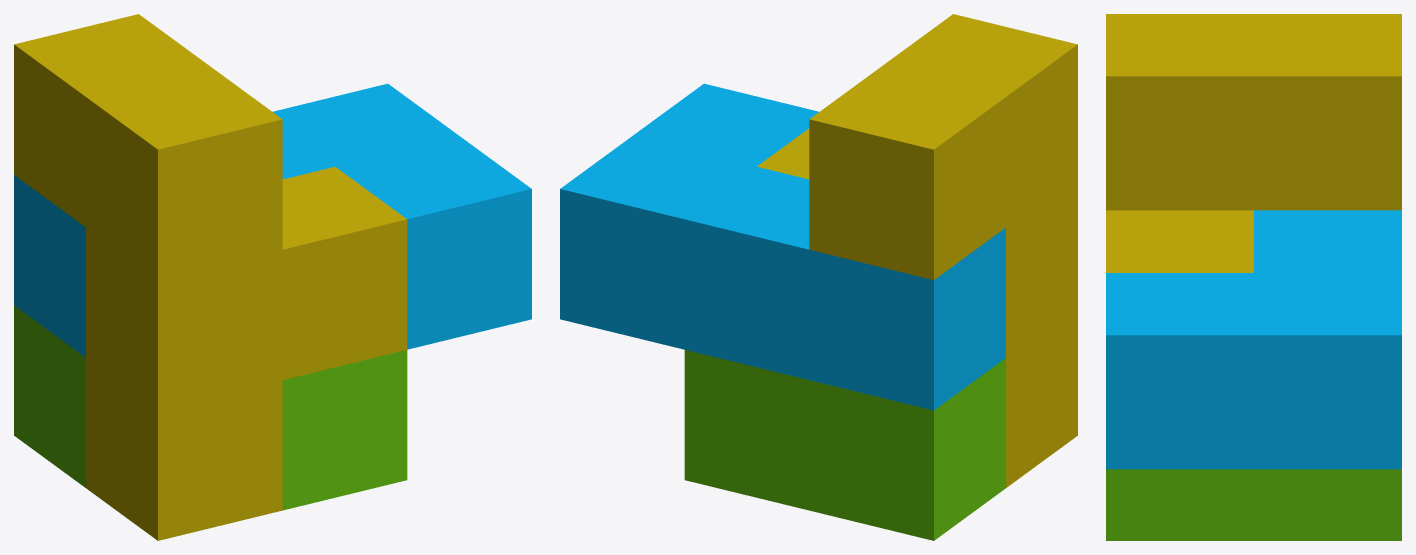
3 views of the same model, side by side, from view 1: azimuth 30°, elevation 25°; view 2: azimuth 150°, elevation 25°; view 3: azimuth 270°, elevation 25° (orthographic). The views are drawn at different scales.
Parts seen in each view (by area): view 1: mergedBlocks(Clone); view 2: mergedBlocks(Clone); view 3: mergedBlocks(Clone).
Part boxes in pixels (x1,y1,x2,y2): mergedBlocks(Clone): [14, 14, 531, 540]; mergedBlocks(Clone): [560, 14, 1077, 540]; mergedBlocks(Clone): [1106, 14, 1401, 540].
Size of the model in its own units: 3 by 3 by 2.
Materials: 3 (3 with a texture image).
